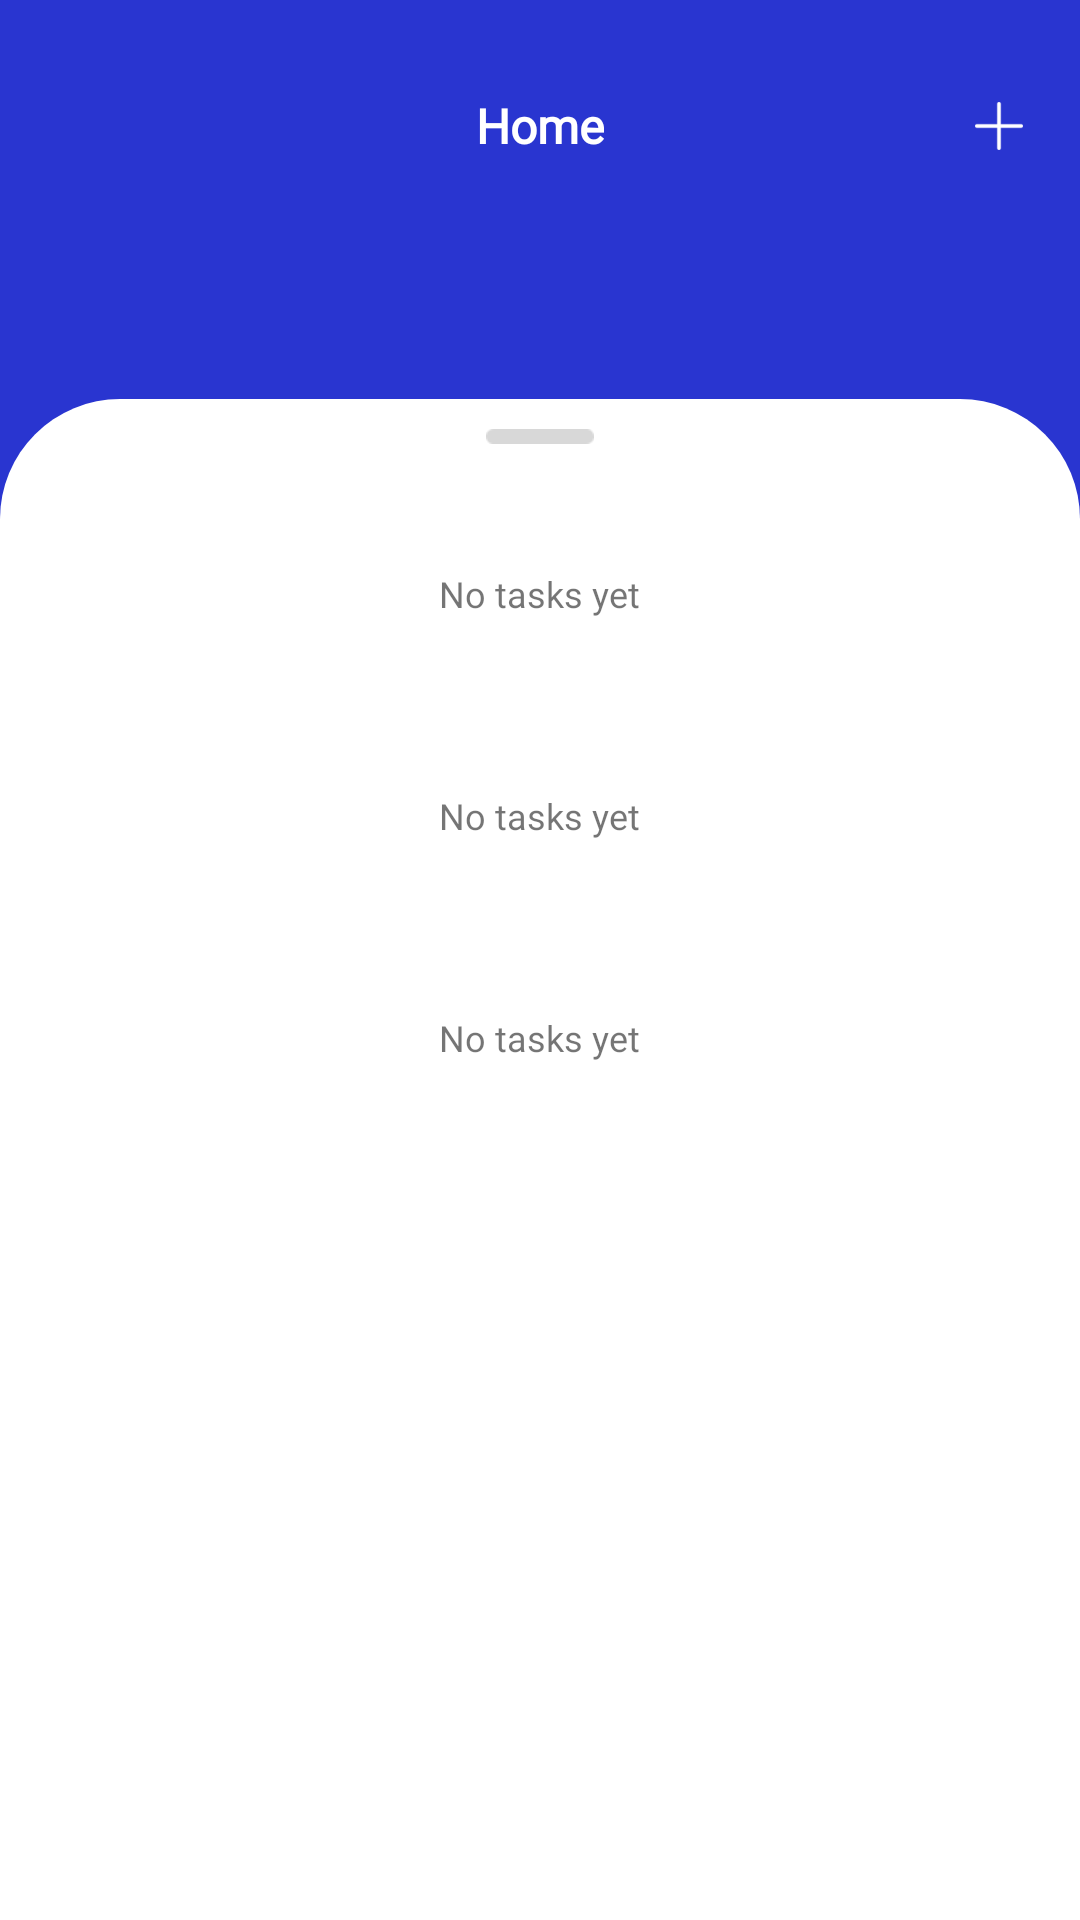

Named icons in this screenshot (1080 x 1920) and their bounding boxes, (x1, y1, x2, y2):
add task: (975, 102, 1023, 150)
